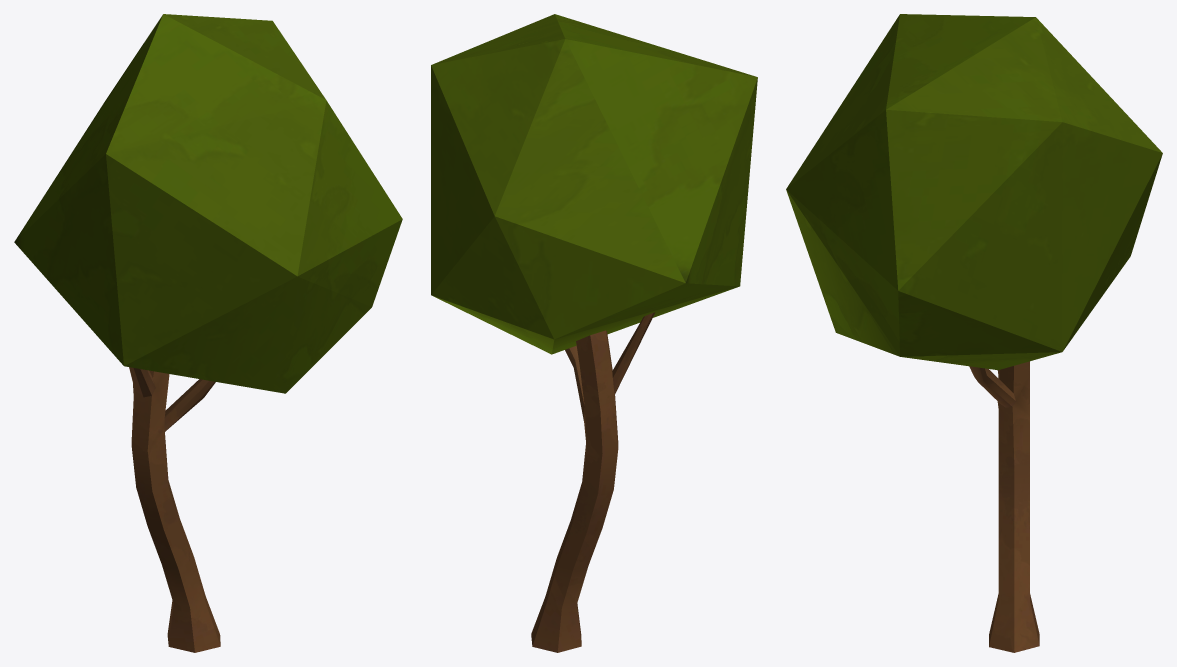
Rendered from buissonSurevleve2.fbx.
3 renders of one model, left to right at view 1: azimuth 30°, elevation 25°; view 2: azimuth 150°, elevation 25°; view 3: azimuth 270°, elevation 25°, orthographic.
Parts seen in each view (by area): view 1: feuillage, branches; view 2: feuillage, branches; view 3: feuillage, branches.
Boxes of the visible parts, left/top/right/bottom form: feuillage: left=14, top=14, right=402, bottom=393; branches: left=129, top=367, right=220, bottom=652; feuillage: left=431, top=14, right=757, bottom=354; branches: left=531, top=312, right=655, bottom=652; feuillage: left=786, top=14, right=1162, bottom=370; branches: left=969, top=361, right=1039, bottom=652.
Size of the model in its own units: 1.91 by 3.73 by 2.08.
